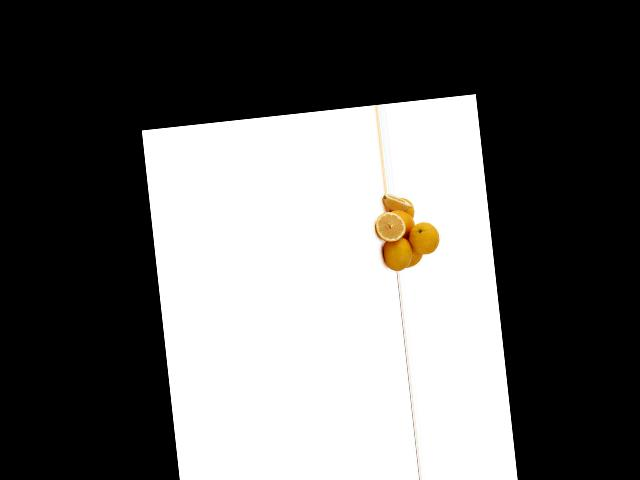lemon: (379, 233, 418, 272)
